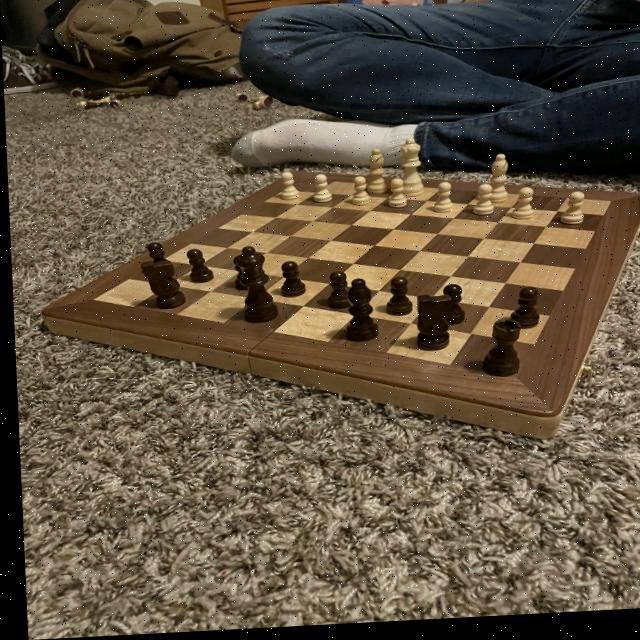bishop: (339, 278, 378, 347)
black-king: (410, 295, 455, 357), (138, 259, 185, 312)
black-knight: (504, 289, 540, 337), (378, 278, 413, 323), (180, 247, 213, 289), (274, 262, 307, 301), (323, 272, 351, 315), (143, 240, 176, 276), (437, 287, 464, 330), (227, 254, 255, 294)
black-pawn: (231, 245, 279, 327)
black-queen: (473, 320, 522, 385)
black-rook: (483, 156, 509, 208), (361, 150, 388, 200)
white-knight: (505, 189, 537, 228), (556, 197, 586, 234), (466, 186, 495, 223), (428, 184, 454, 220), (381, 180, 408, 214), (308, 175, 333, 208), (347, 178, 371, 212), (276, 172, 300, 205)
white-pawn: (391, 140, 425, 203)
